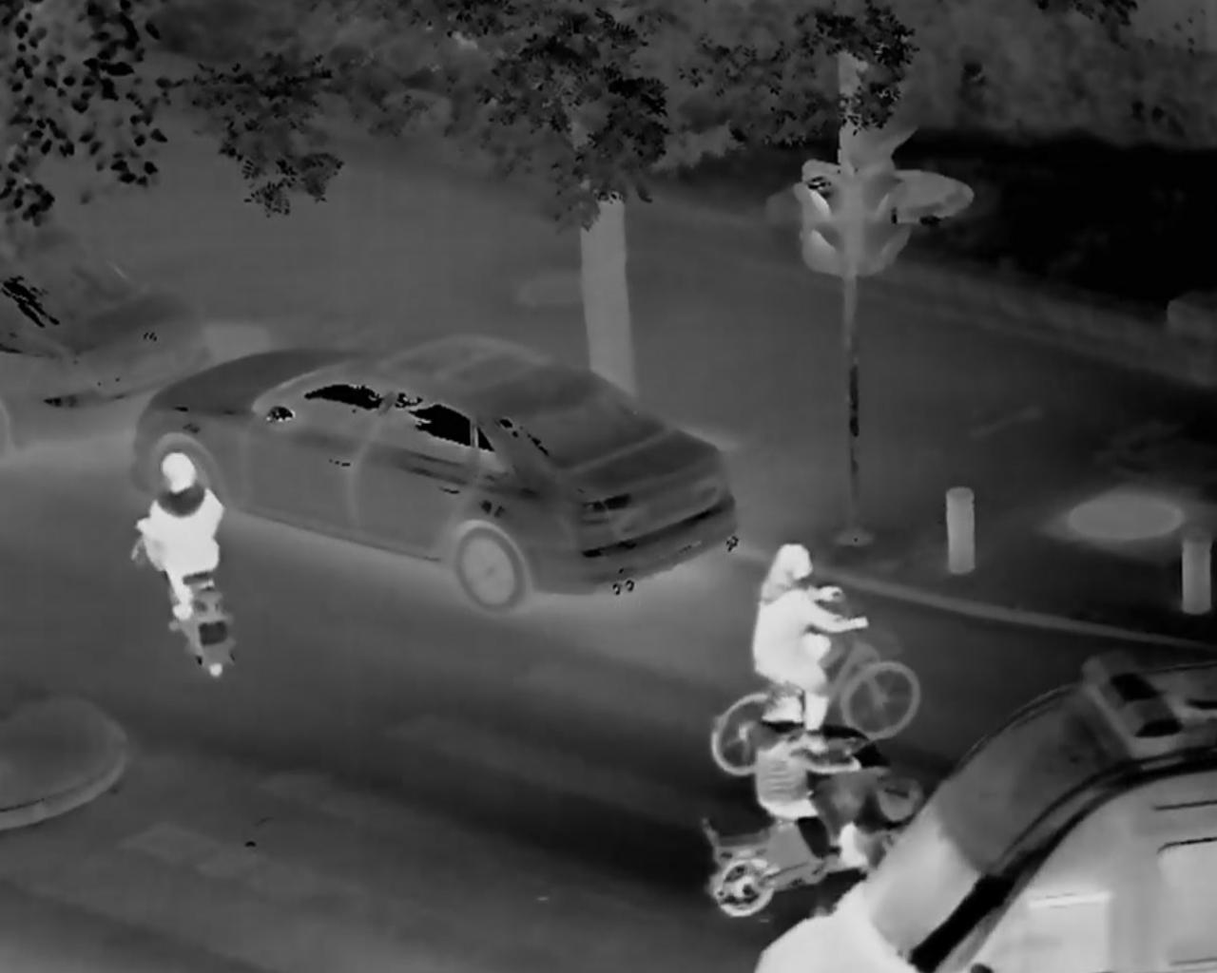person: (737, 676, 895, 884), (743, 543, 881, 732), (130, 448, 251, 659)
